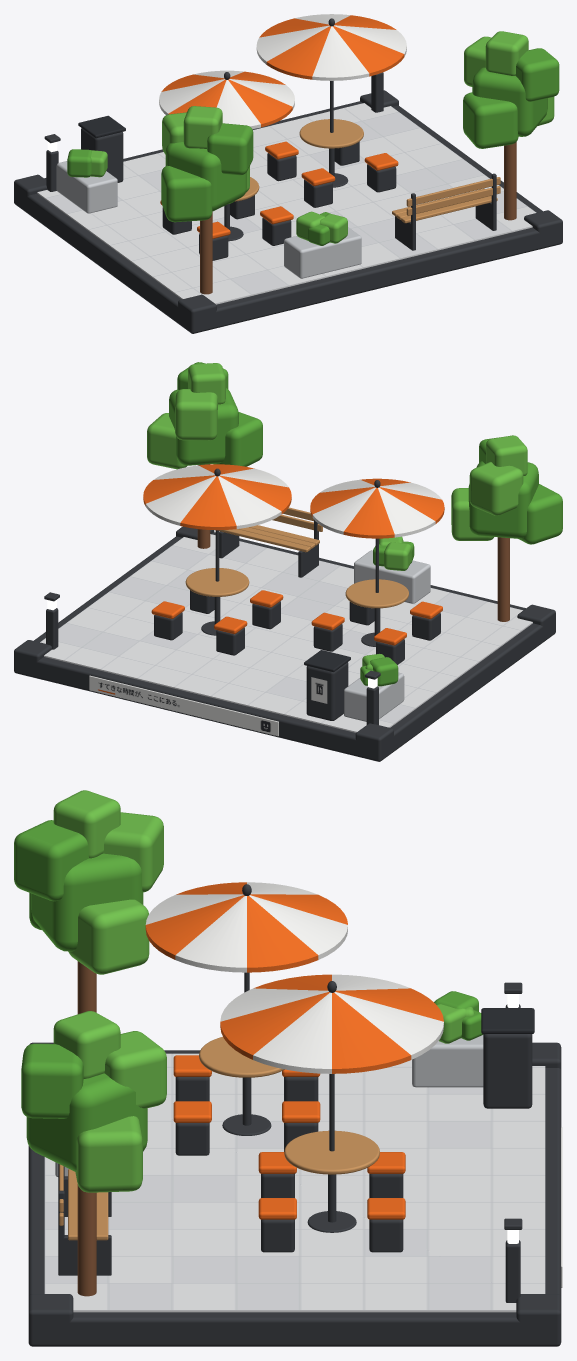
File: hakoniwa-open-space-simple.glb
3 renders of one model, top to bottom at view 1: azimuth 30°, elevation 25°; view 2: azimuth 150°, elevation 25°; view 3: azimuth 270°, elevation 25°, orthographic. The views are drawn at different scales.
Bounding box in the file's own units: 6.4 × 3.1 × 5.15.
14 materials, 3 textured.
